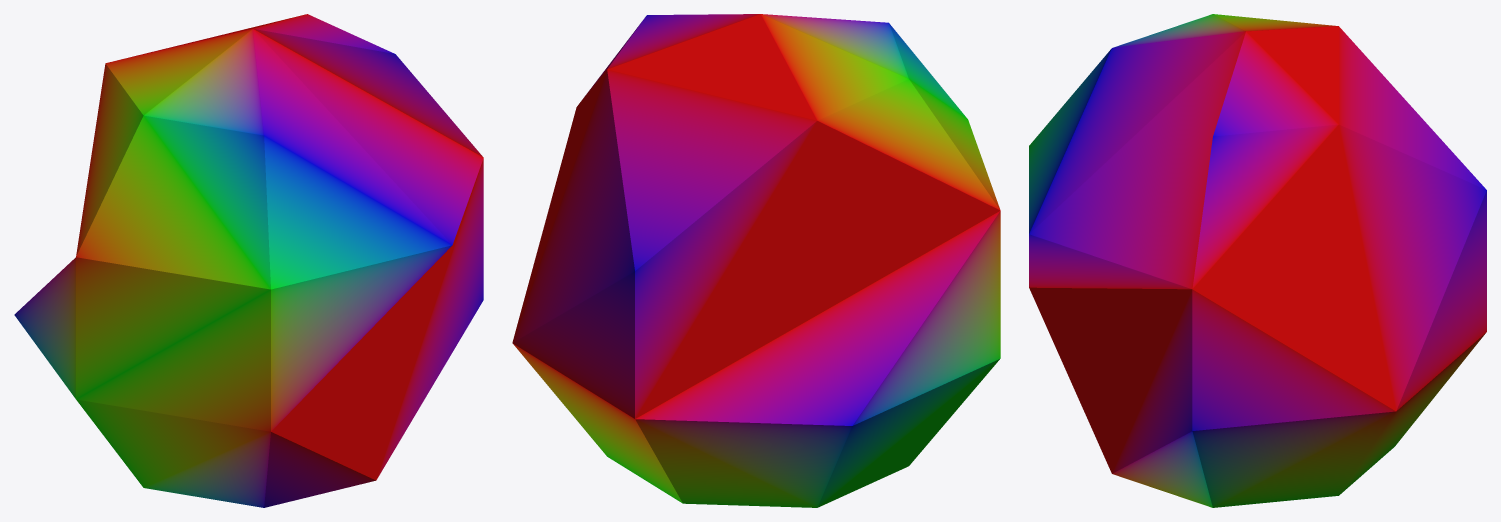
The model's file is after_decimating_conquest_1_9.obj.
3 renders of one model, left to right at view 1: azimuth 30°, elevation 25°; view 2: azimuth 150°, elevation 25°; view 3: azimuth 270°, elevation 25°, orthographic. The views are drawn at different scales.
Size of the model in its own units: 1.85 by 2 by 1.81.
